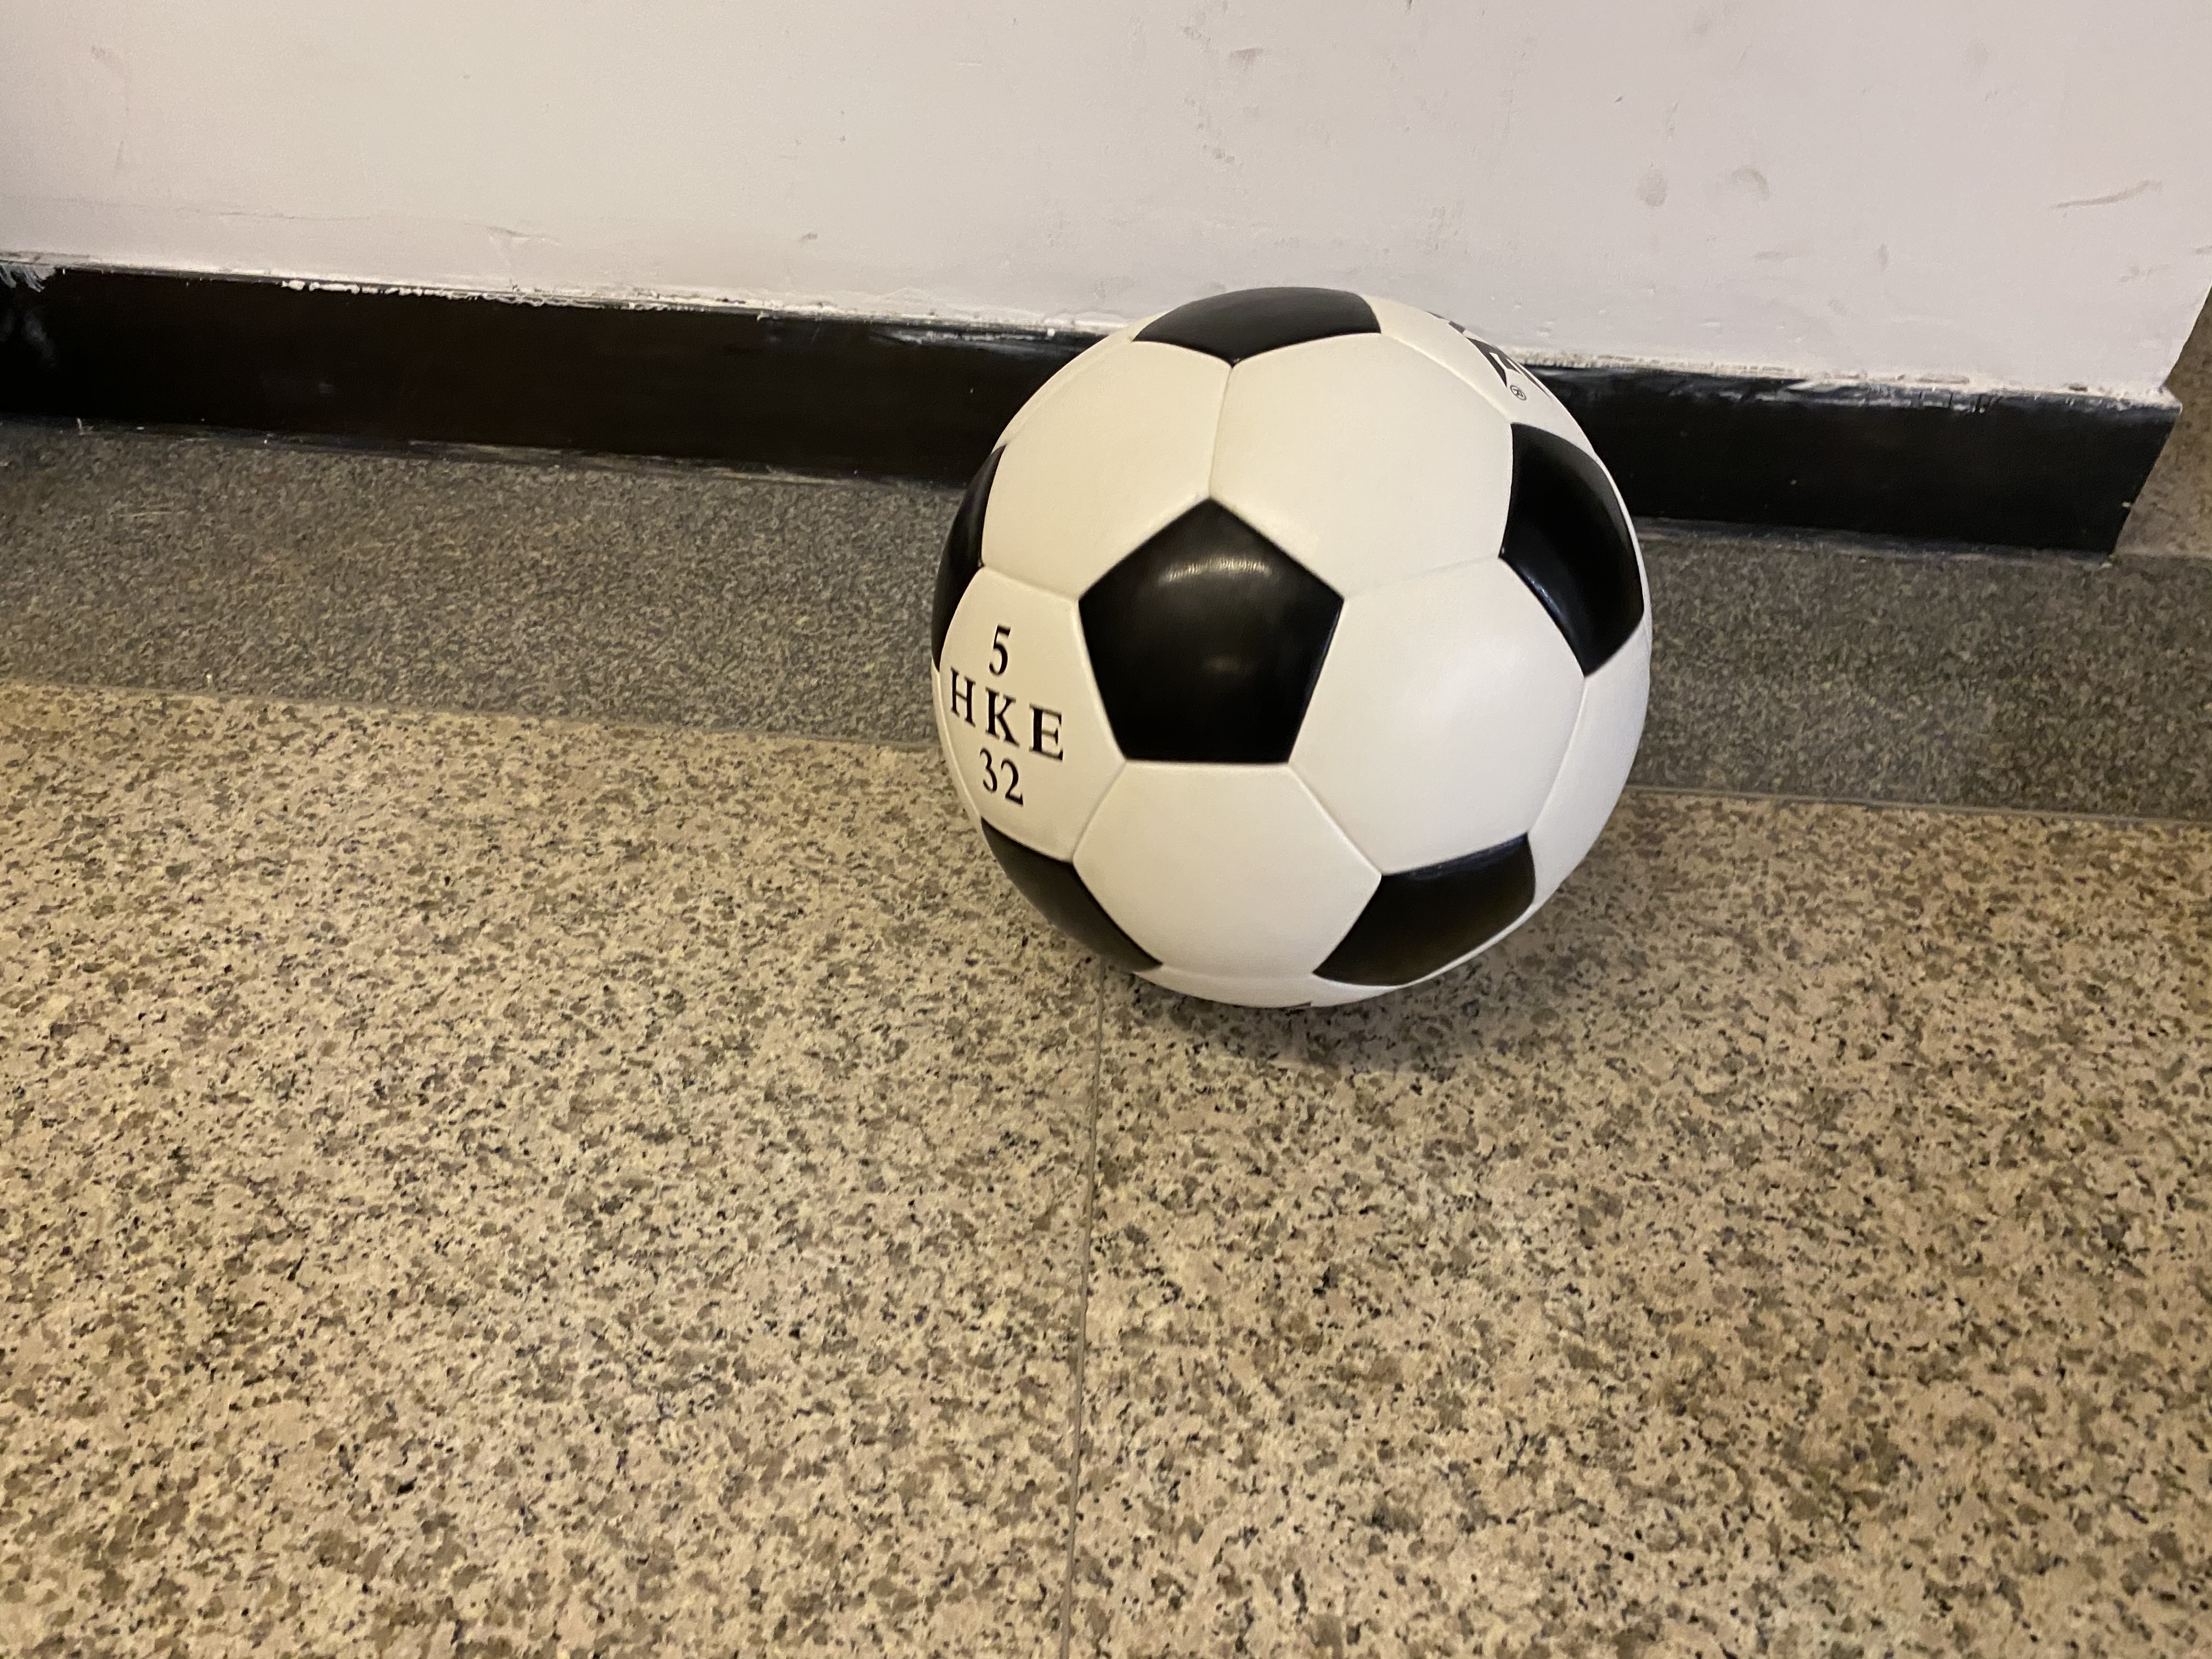football: (918, 274, 1660, 1011)
